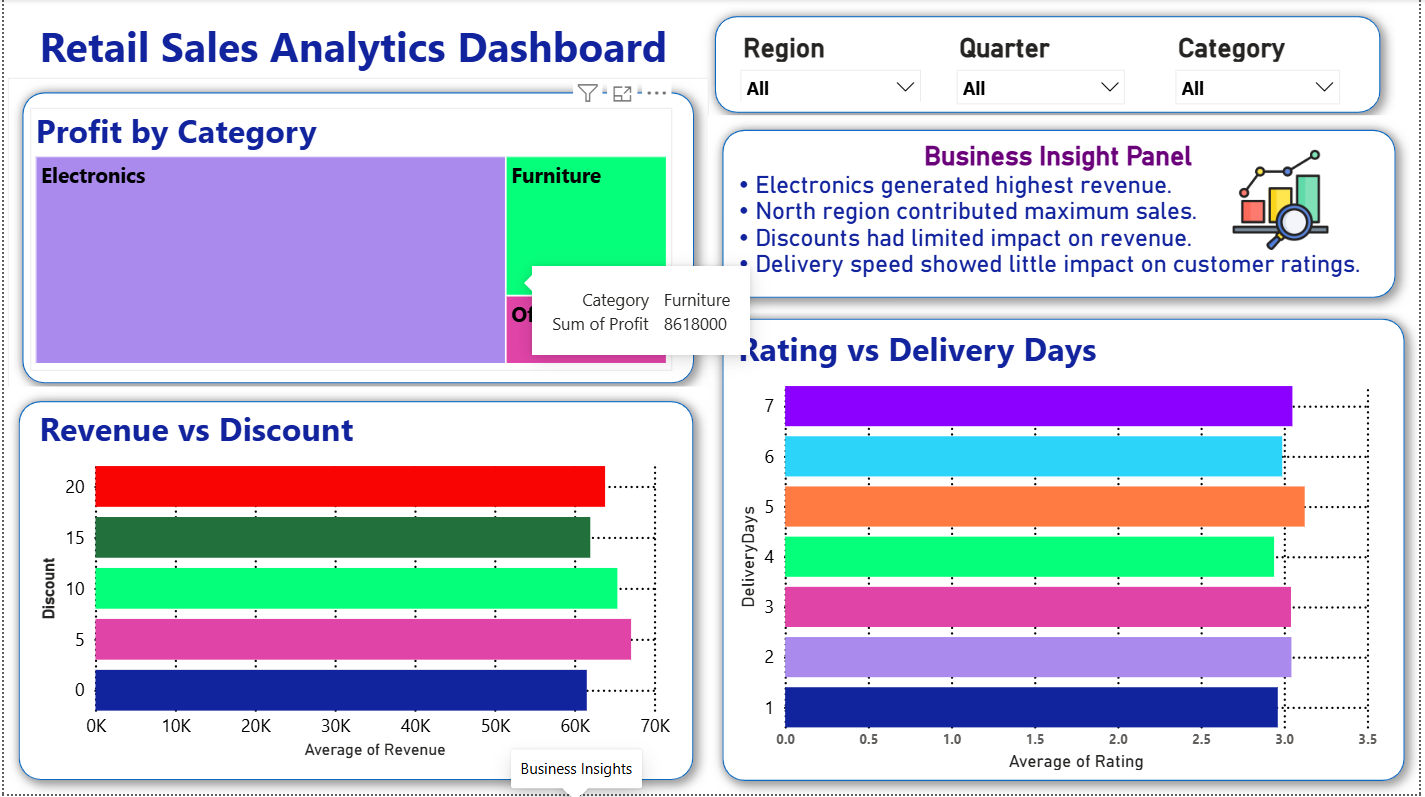

Layout of this report page (visuals, bound fields, positions):
{"tool":"powerbi","page":{"name":"Business Insights","canvas":[1280,720],"ordinal":3},"visuals":[{"type":"group","id":"g1","title":"Group 1","box":[629.8,2.7,628.5,113.9],"z":0,"group":"g6"},{"type":"shape","box":[629.8,2.7,628.5,113.9],"z":0,"group":"g1"},{"type":"textbox","box":[27.4,12.3,592.8,70],"z":0},{"type":"group","id":"g2","title":"Group 1","box":[3.4,71.7,634,289.5],"z":0,"group":"g7"},{"type":"shape","box":[3.4,71.7,634,289.5],"z":0,"group":"g2"},{"type":"group","id":"g3","title":"Group 1","box":[636.7,105.7,635.3,178.4],"z":0,"group":"g10"},{"type":"shape","box":[636.7,105.7,635.3,178.4],"z":0,"group":"g3"},{"type":"group","id":"g4","title":"Group 1","box":[636.7,275.8,643.6,444.6],"z":0,"group":"g9"},{"type":"shape","box":[636.7,275.8,643.6,444.6],"z":0,"group":"g4"},{"type":"group","id":"g5","title":"Group 1","box":[0,350.6,636.7,369.1],"z":0,"group":"g8"},{"type":"shape","box":[0,350.6,636.7,369.1],"z":0,"group":"g5"},{"type":"group","id":"g6","title":"Group 2","box":[629.8,2.7,628.5,113.9],"z":1000},{"type":"slicer","fields":{"Values":["Orders_Big.OrderDate.Variation.Date Hierarchy.Quarter"]},"box":[851.3,25.5,172.7,72.1],"z":1000,"group":"g6"},{"type":"treemap","title":"Profit by Category","fields":{"Values":["Sum(Orders_Big.Profit)"],"Group":["Products_Big.Category"]},"box":[23.8,99.3,580.9,236.8],"z":1000,"group":"g7"},{"type":"barChart","title":"Rating vs Delivery Days","fields":{"Category":["Orders_Big.DeliveryDays"],"Y":["Avg(Orders_Big.Rating)"]},"box":[659,294.6,588.3,407.5],"z":1000,"group":"g9"},{"type":"barChart","title":"Revenue vs Discount","fields":{"Category":["Orders_Big.Discount"],"Y":["Avg(Orders_Big.Revenue)"]},"box":[27.4,367.6,580.4,325.2],"z":1000,"group":"g8"},{"type":"slicer","fields":{"Values":["Products_Big.Category"]},"box":[1049.2,25.5,168.9,73.4],"z":2000,"group":"g6"},{"type":"group","id":"g7","title":"Group 2","box":[3.4,71.7,634,289.5],"z":2000},{"type":"slicer","fields":{"Values":["Orders_Big.Region"]},"box":[656,25.5,183.4,68.3],"z":3000,"group":"g6"},{"type":"group","id":"g8","title":"Group 2","box":[0,350.6,636.7,369.1],"z":3000},{"type":"group","id":"g9","title":"Group 2","box":[636.7,275.8,643.6,444.6],"z":4000},{"type":"group","id":"g10","title":"Group 2","box":[636.7,105.7,635.3,178.4],"z":5000},{"type":"textbox","box":[658.7,123.5,588.7,137.2],"z":6000},{"type":"image","box":[1090.9,135.8,127.6,91.9],"z":7000}]}

Visuals, with their boxes in screenshot pixels (x1, y1, x2, y2), scaled from the page's 1280x720 canvas onto the 1425x797 screenshot:
"Group 1" group: box=[701, 3, 1401, 129]
shape: box=[701, 3, 1401, 129]
textbox: box=[31, 14, 690, 91]
"Group 1" group: box=[4, 79, 710, 400]
shape: box=[4, 79, 710, 400]
"Group 1" group: box=[709, 117, 1416, 314]
shape: box=[709, 117, 1416, 314]
"Group 1" group: box=[709, 305, 1424, 796]
shape: box=[709, 305, 1424, 796]
"Group 1" group: box=[0, 388, 709, 796]
shape: box=[0, 388, 709, 796]
"Group 2" group: box=[701, 3, 1401, 129]
slicer - Orders_Big.OrderDate.Variation.Date Hierarchy.Quarter: box=[948, 28, 1140, 108]
"Profit by Category" treemap: box=[26, 110, 673, 372]
"Rating vs Delivery Days" barChart: box=[734, 326, 1389, 777]
"Revenue vs Discount" barChart: box=[31, 407, 677, 767]
slicer - Products_Big.Category: box=[1168, 28, 1356, 109]
"Group 2" group: box=[4, 79, 710, 400]
slicer - Orders_Big.Region: box=[730, 28, 934, 104]
"Group 2" group: box=[0, 388, 709, 796]
"Group 2" group: box=[709, 305, 1424, 796]
"Group 2" group: box=[709, 117, 1416, 314]
textbox: box=[733, 137, 1389, 289]
image: box=[1214, 150, 1357, 252]
